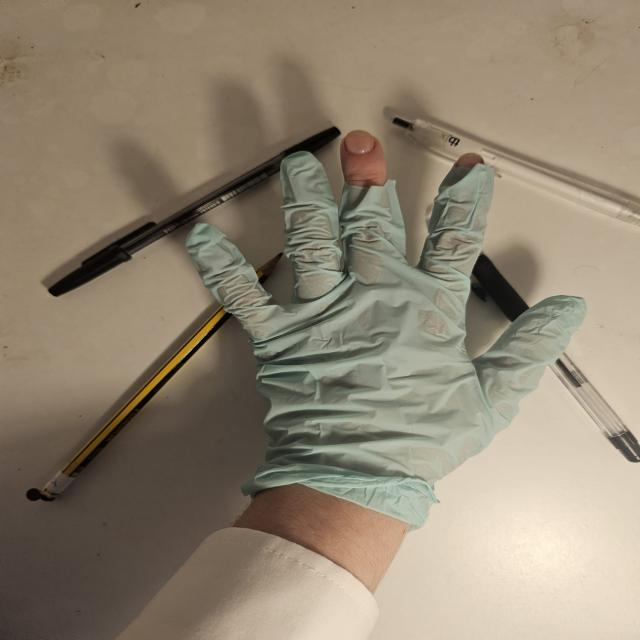gloves_damaged: (179, 124, 593, 527)
